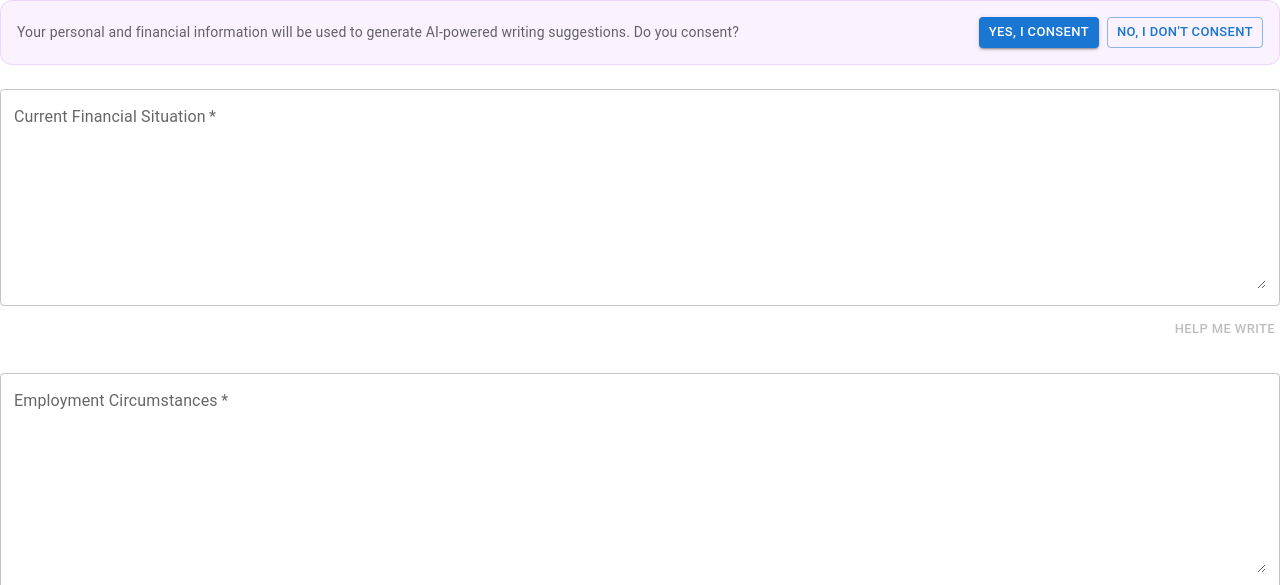
Test: StepSituation AI suggestions › shows a generic error when suggestion generation fails
Click the button "Yes, I consent".
click(1039, 32)  # box [979,17,1099,48]
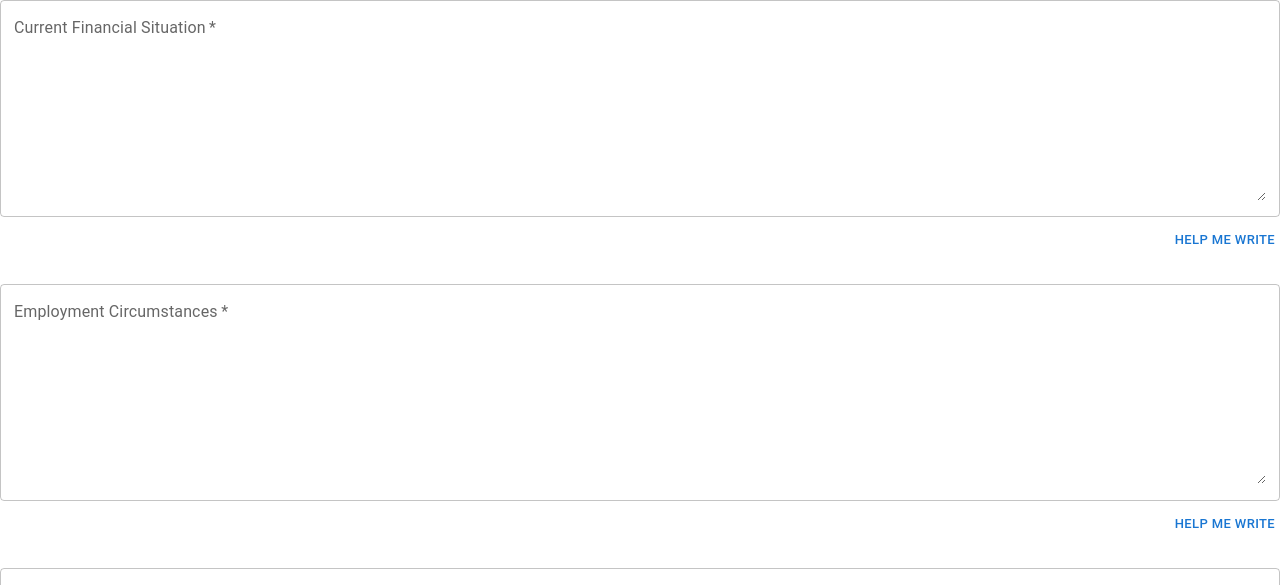
Click the 1st button "Help me write".
click(1225, 240)  # box [1170,225,1279,256]
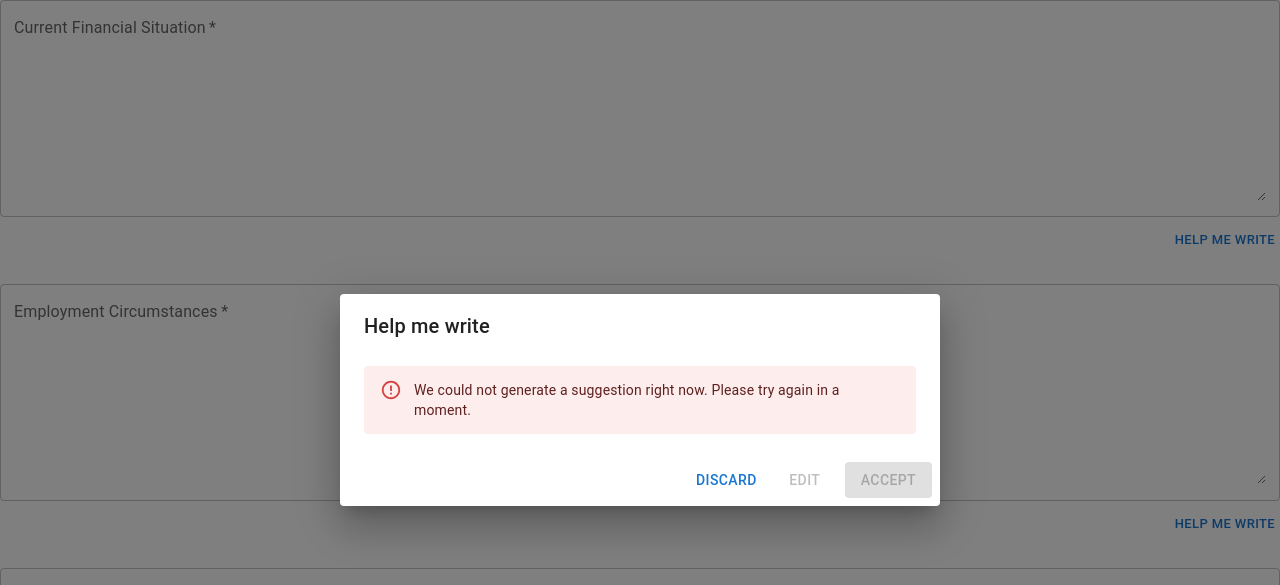
Expected: the text "could not generate a suggestion right now" is shown, [414,382,840,418]
